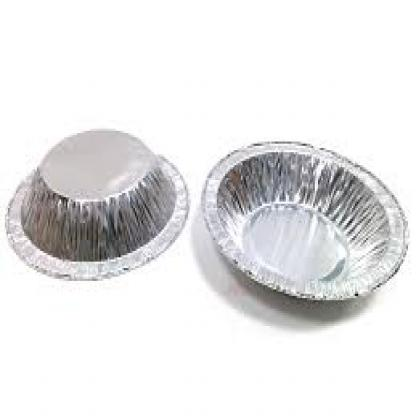METAL: (199, 137, 406, 300), (2, 124, 188, 276)
